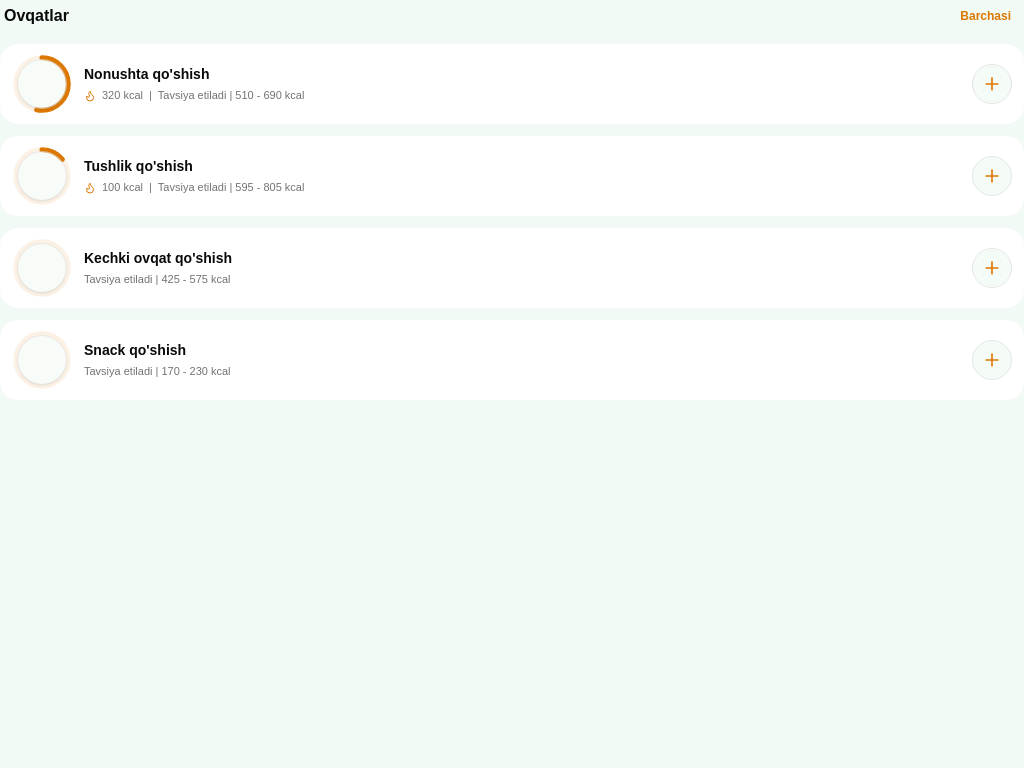
Test: MealsWidget › renders compact rows with image and only delete/check row actions
The width and height of the screenshot is (1024, 768).
Click the button with aria-label "Nonushta 320 kcal". click: x=42, y=84
box: top-left (12, 54), bottom-right (962, 114)
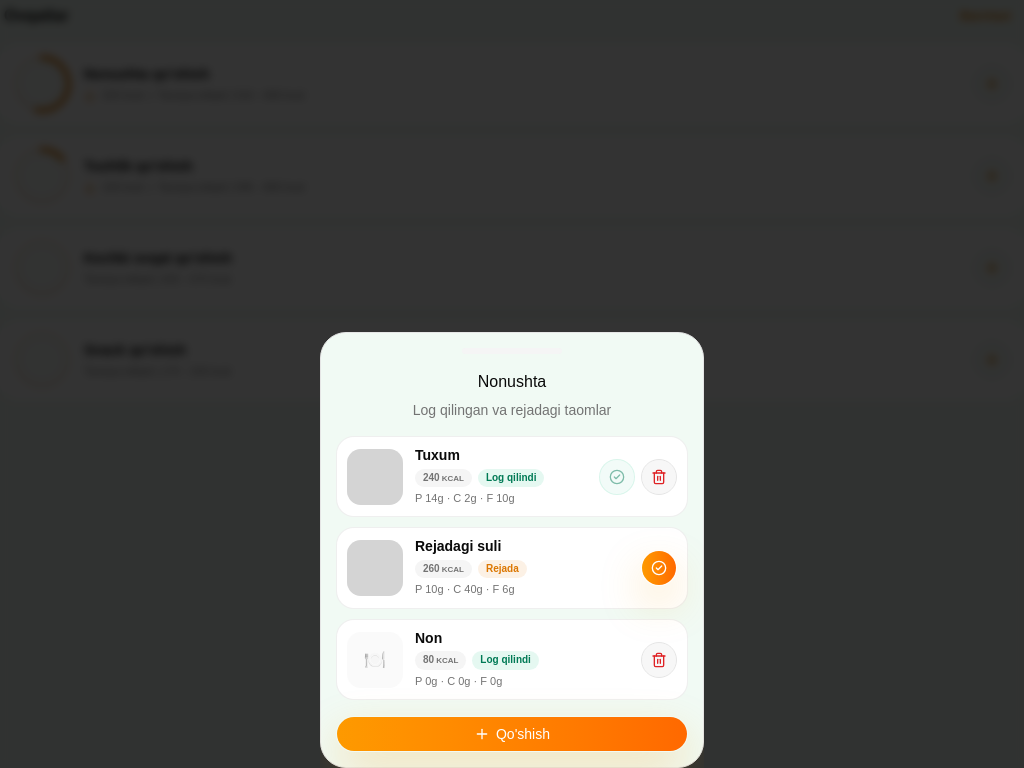
Expected: the button named "Rejadagi suli log qilish" is shown, top-left (641, 550), bottom-right (677, 586)
Expected: the button named "Tuxum log qilingan" is disabled, top-left (599, 458), bottom-right (635, 494)
Expected: the button named "Non o'chirish" is shown, top-left (641, 641), bottom-right (677, 677)
